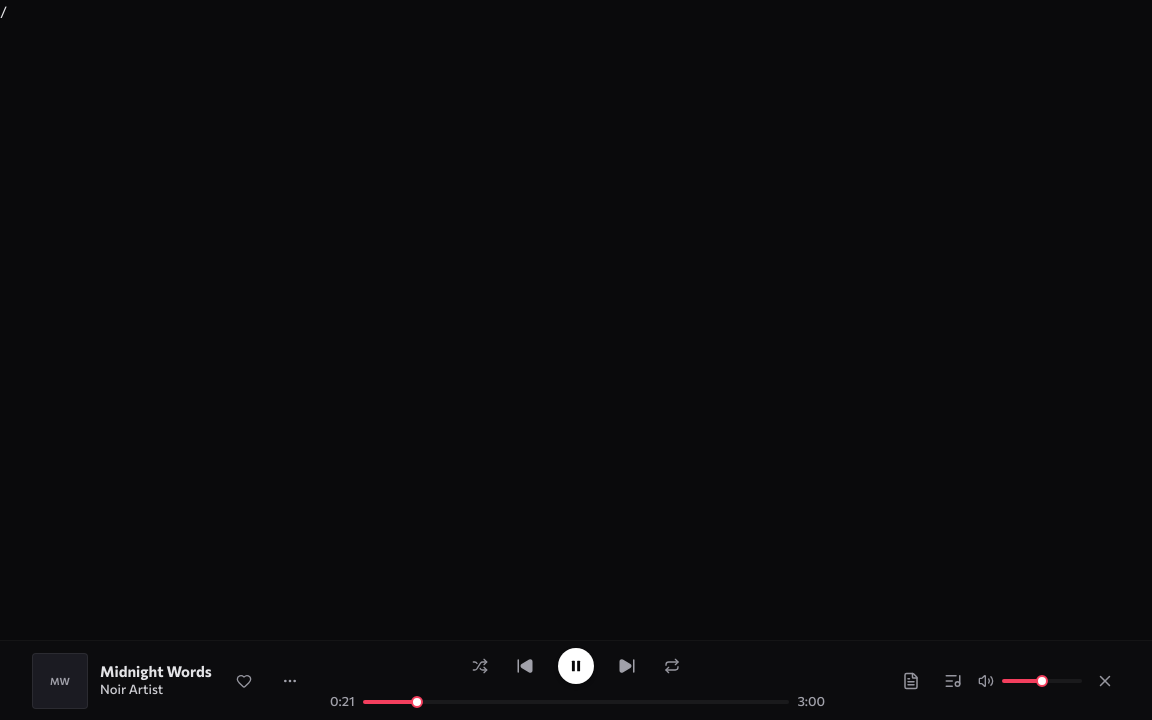
it: lyrics UI › opens and closes fullscreen lyrics lazily without changing playback state
This screenshot has width=1152, height=720.
Click the button named "Open fullscreen lyrics". click: click(911, 680)
box: left=894, top=664, right=928, bottom=698
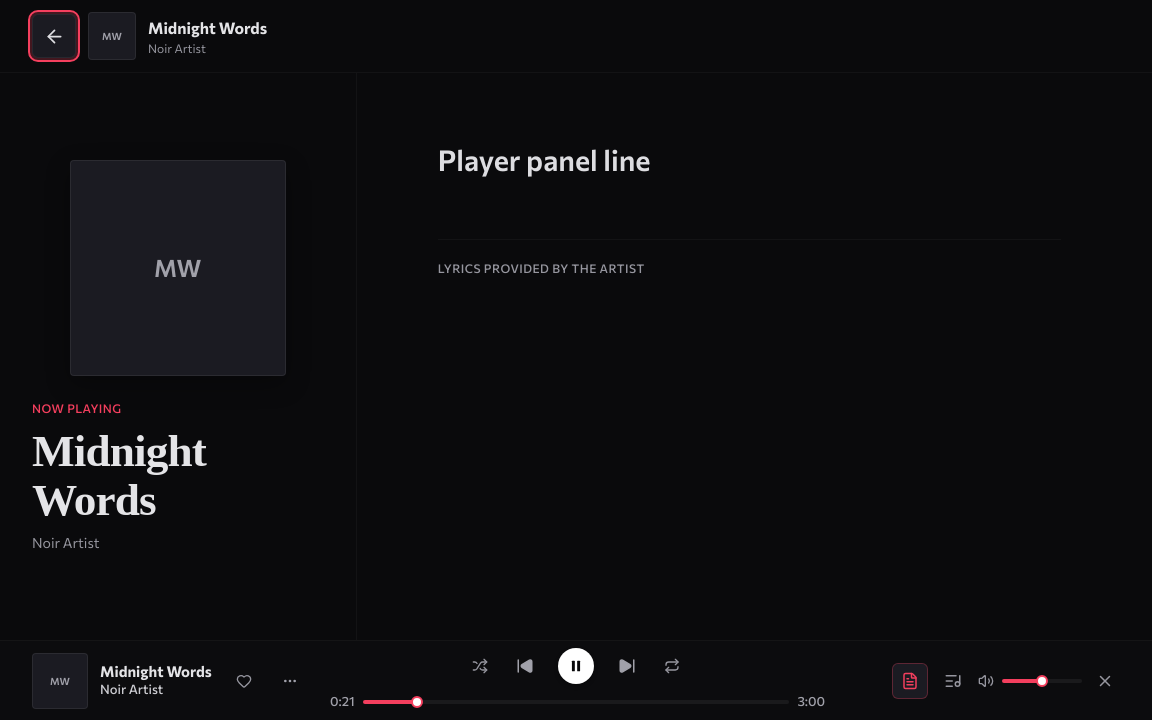
Click the 1st button named "Close fullscreen lyrics". click: click(54, 36)
box: left=32, top=14, right=76, bottom=58
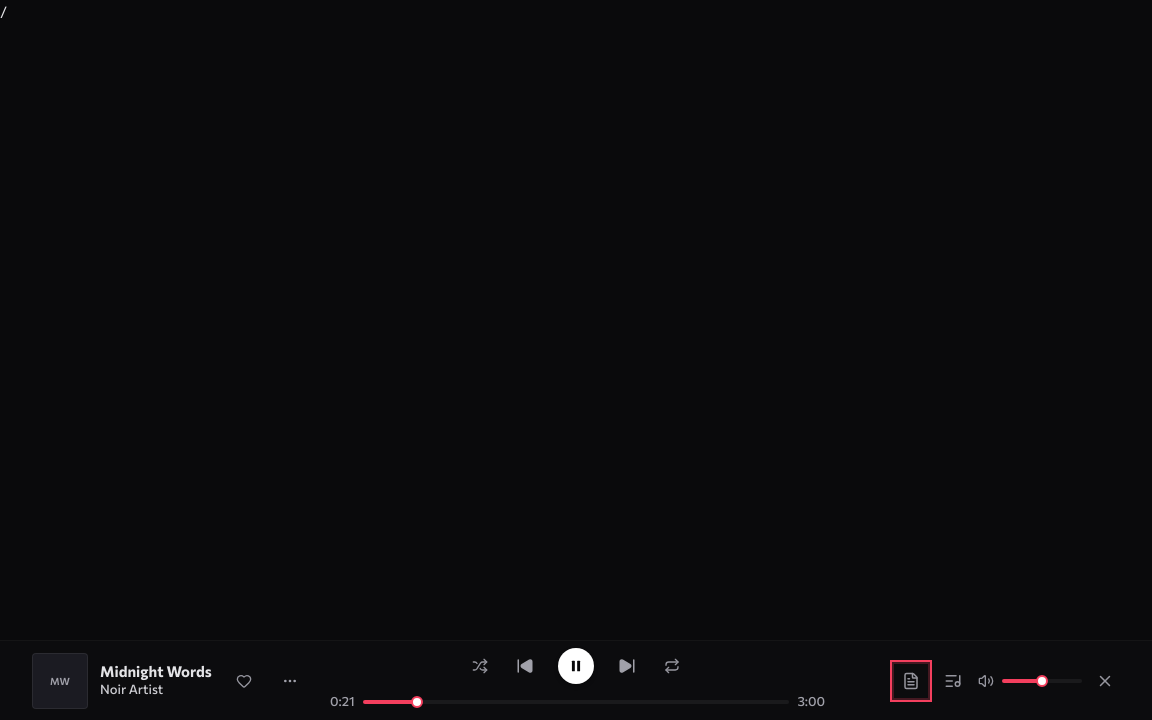
Expected: the dialog with test id "fullscreen-lyrics-player" is gone
